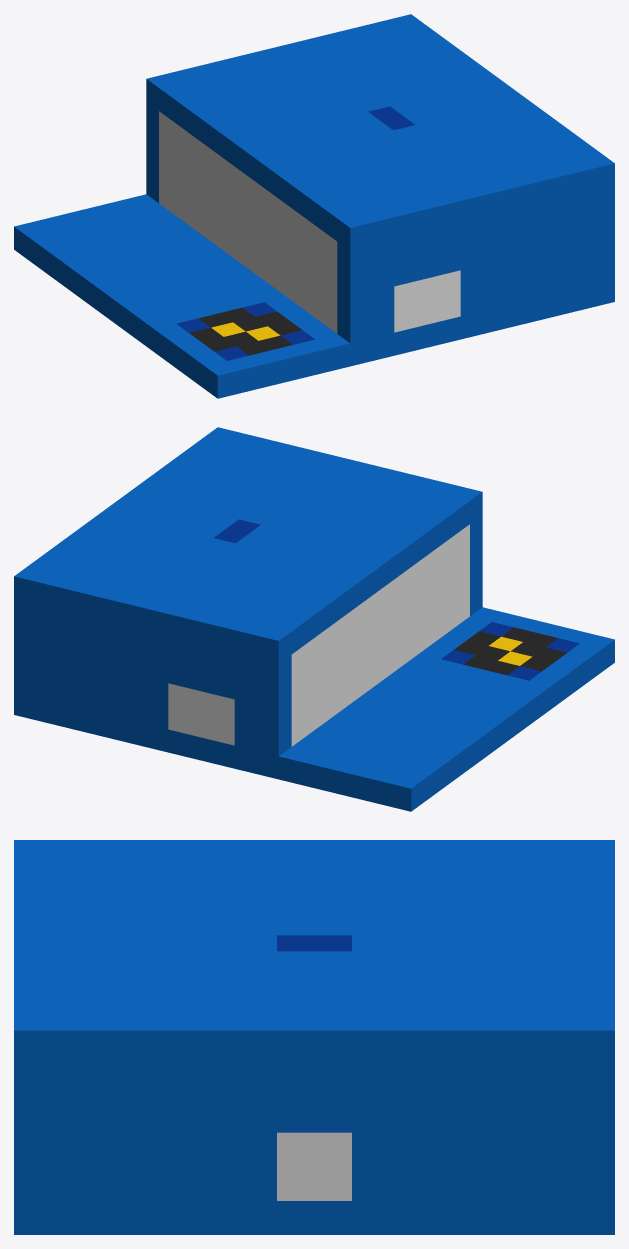
The model's file is Voxel Universe-37-Cap Blue.obj.
3 views of the same model, one above another, from view 1: azimuth 30°, elevation 25°; view 2: azimuth 150°, elevation 25°; view 3: azimuth 270°, elevation 25° (orthographic). The views are drawn at different scales.
Visible parts, largest first — view 1: Cap Blue; view 2: Cap Blue; view 3: Cap Blue.
Boxes of the visible parts, x1=… form: Cap Blue: x1=14, y1=14, x2=614, y2=398; Cap Blue: x1=14, y1=427, x2=614, y2=811; Cap Blue: x1=14, y1=840, x2=614, y2=1234.
Bounding box in the file's own units: 1.8 × 0.6 × 1.6.
Materials: 1 (1 with a texture image).
